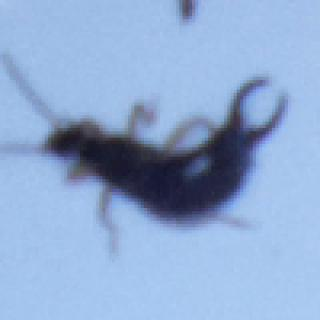earwig: (0, 52, 286, 256)
